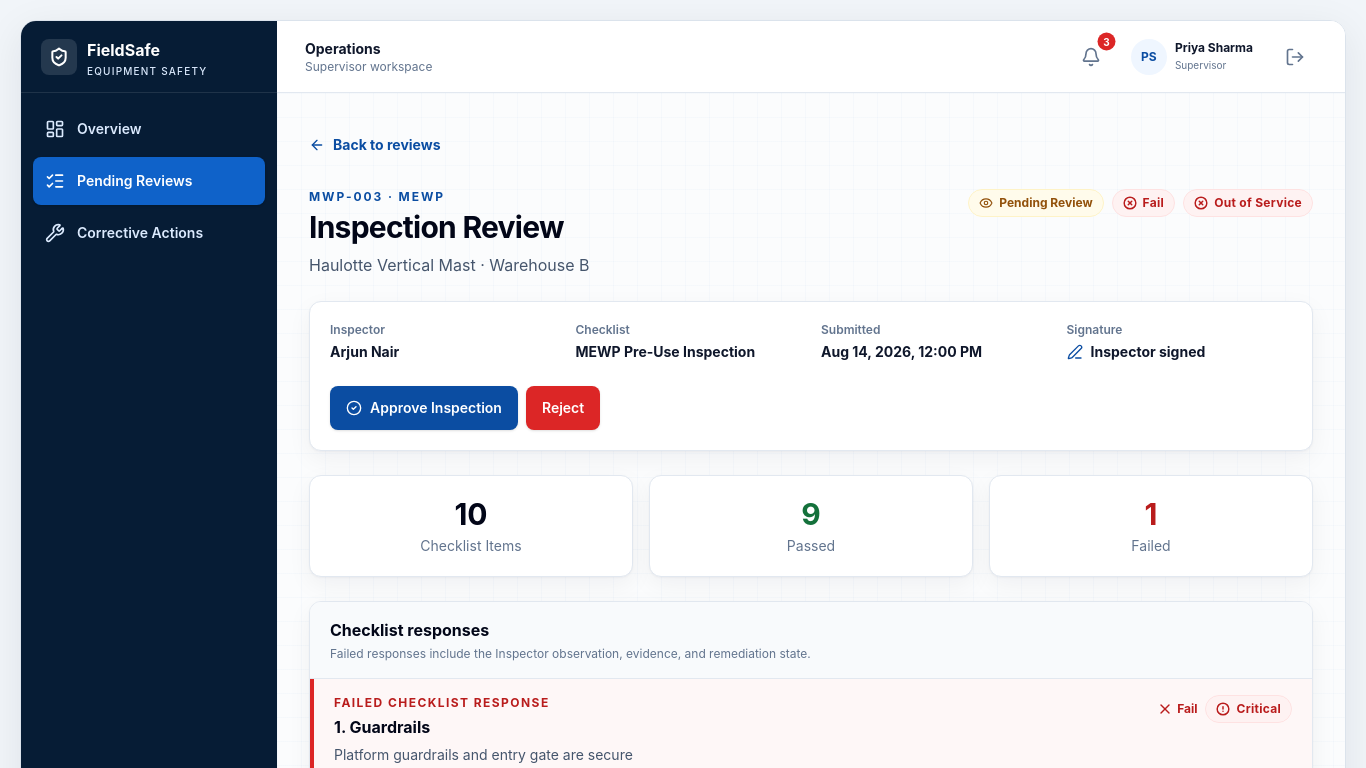
Test: Supervisor lifecycle UI › warns before Review and keeps unassigned remediation available afterward
Click the button "Approve Inspection": [424, 408] box [330,386,518,430]
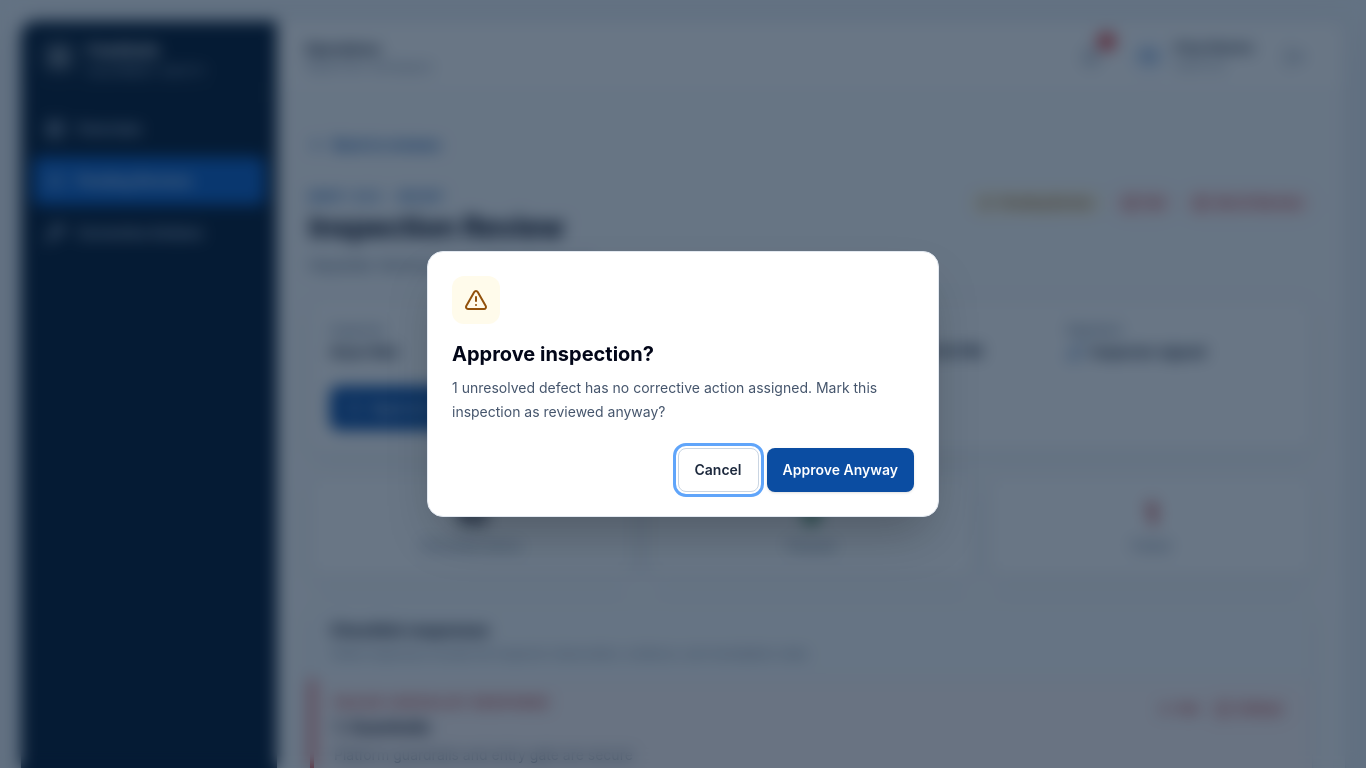
Result: the text "1 unresolved defect has no corrective action assigned. Mark this inspection as reviewed anyway?" is shown at [452,379,877,420]
Click the button "Approve Anyway": [840, 470] box [766,448,914,492]
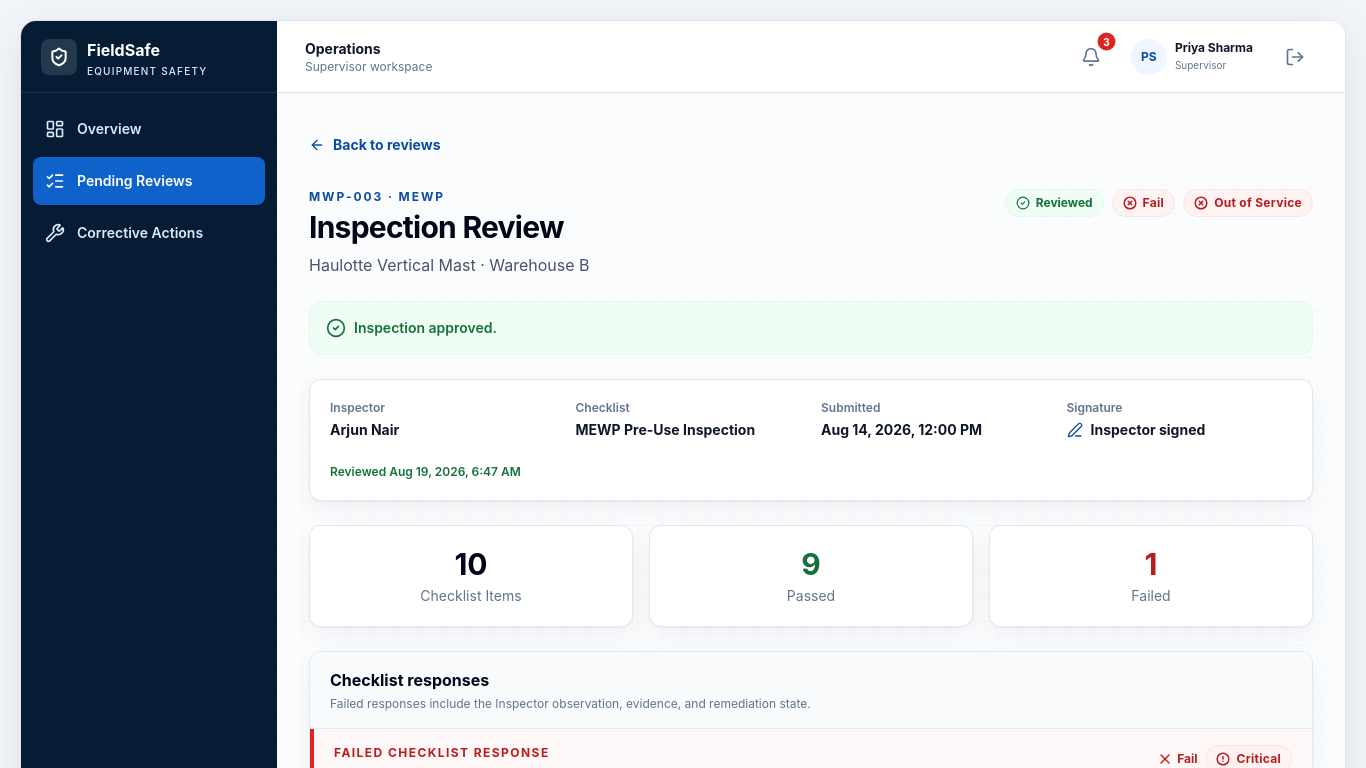
Result: the text "Inspection approved." is shown at [309,301,1313,355]
Result: the element showing "Reviewed" is shown at [1005,189,1104,217]
